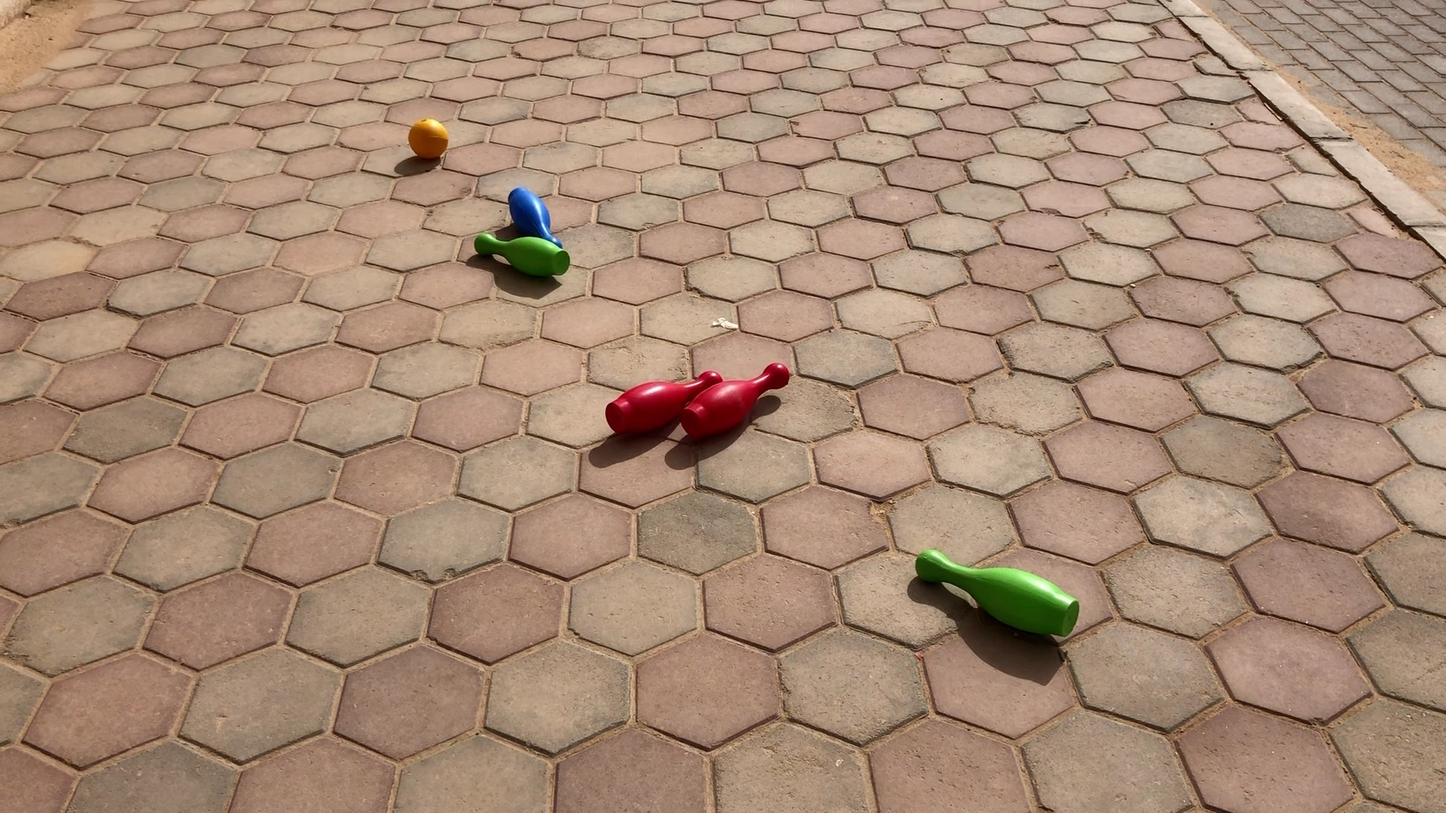bowling-pin: (918, 551, 1079, 638), (672, 362, 786, 437), (606, 370, 712, 437), (474, 227, 571, 278)
